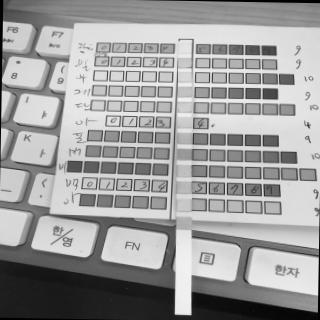mark: (176, 198, 192, 212), (176, 217, 192, 230), (176, 182, 192, 194), (177, 148, 192, 160), (177, 165, 191, 177), (178, 133, 192, 144), (178, 117, 192, 128), (178, 102, 192, 113), (178, 87, 192, 98), (178, 43, 192, 54), (178, 58, 192, 68), (179, 72, 192, 82)
